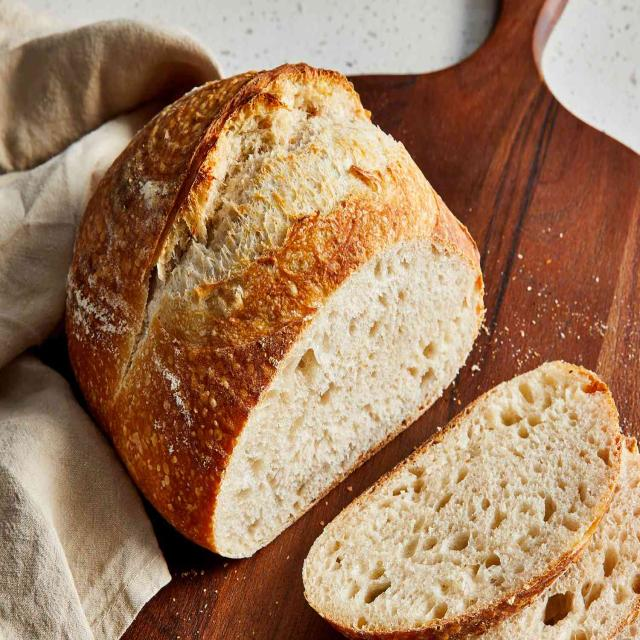Maltese-Bread: (67, 65, 484, 558)
